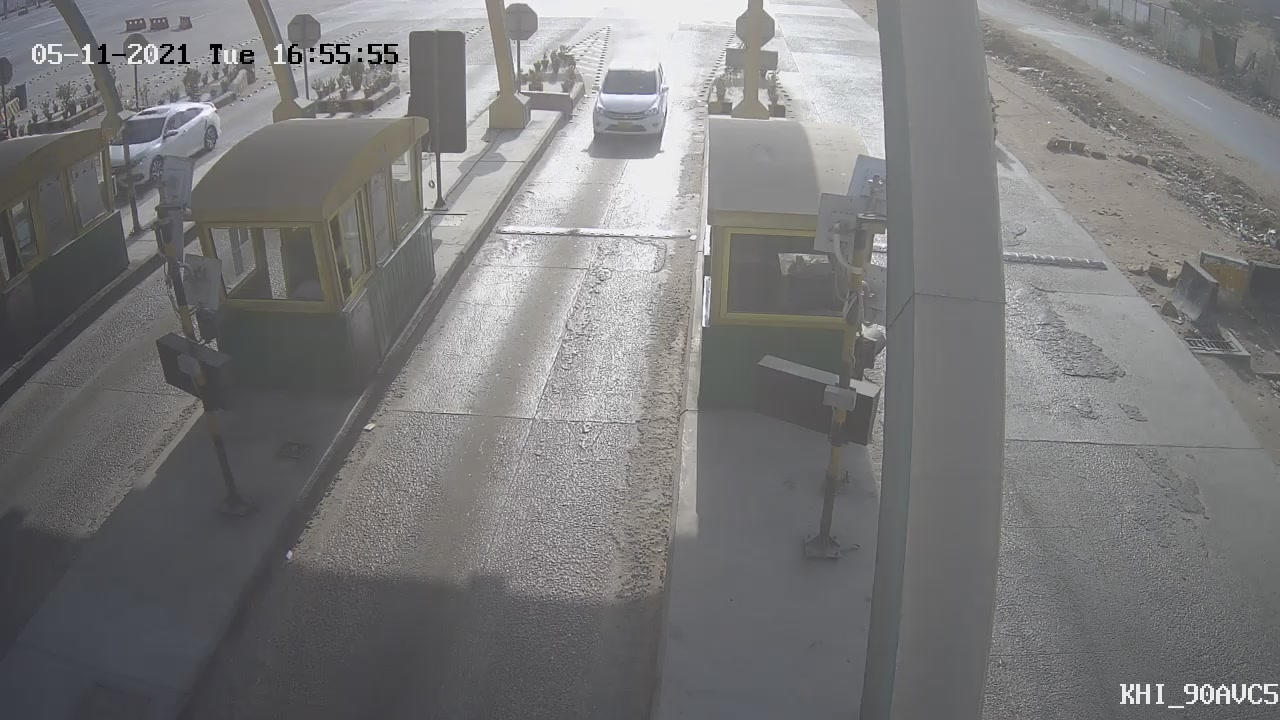F1: (572, 44, 683, 156)
